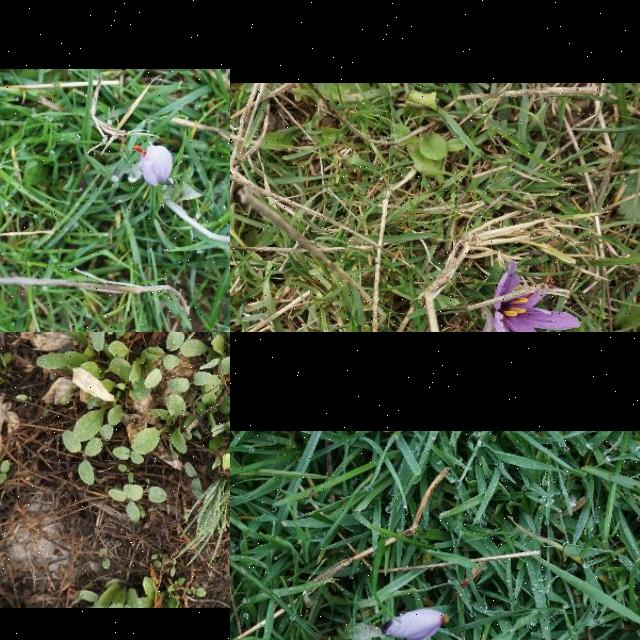flower: (491, 261, 581, 332), (386, 608, 451, 640), (136, 145, 172, 187)
